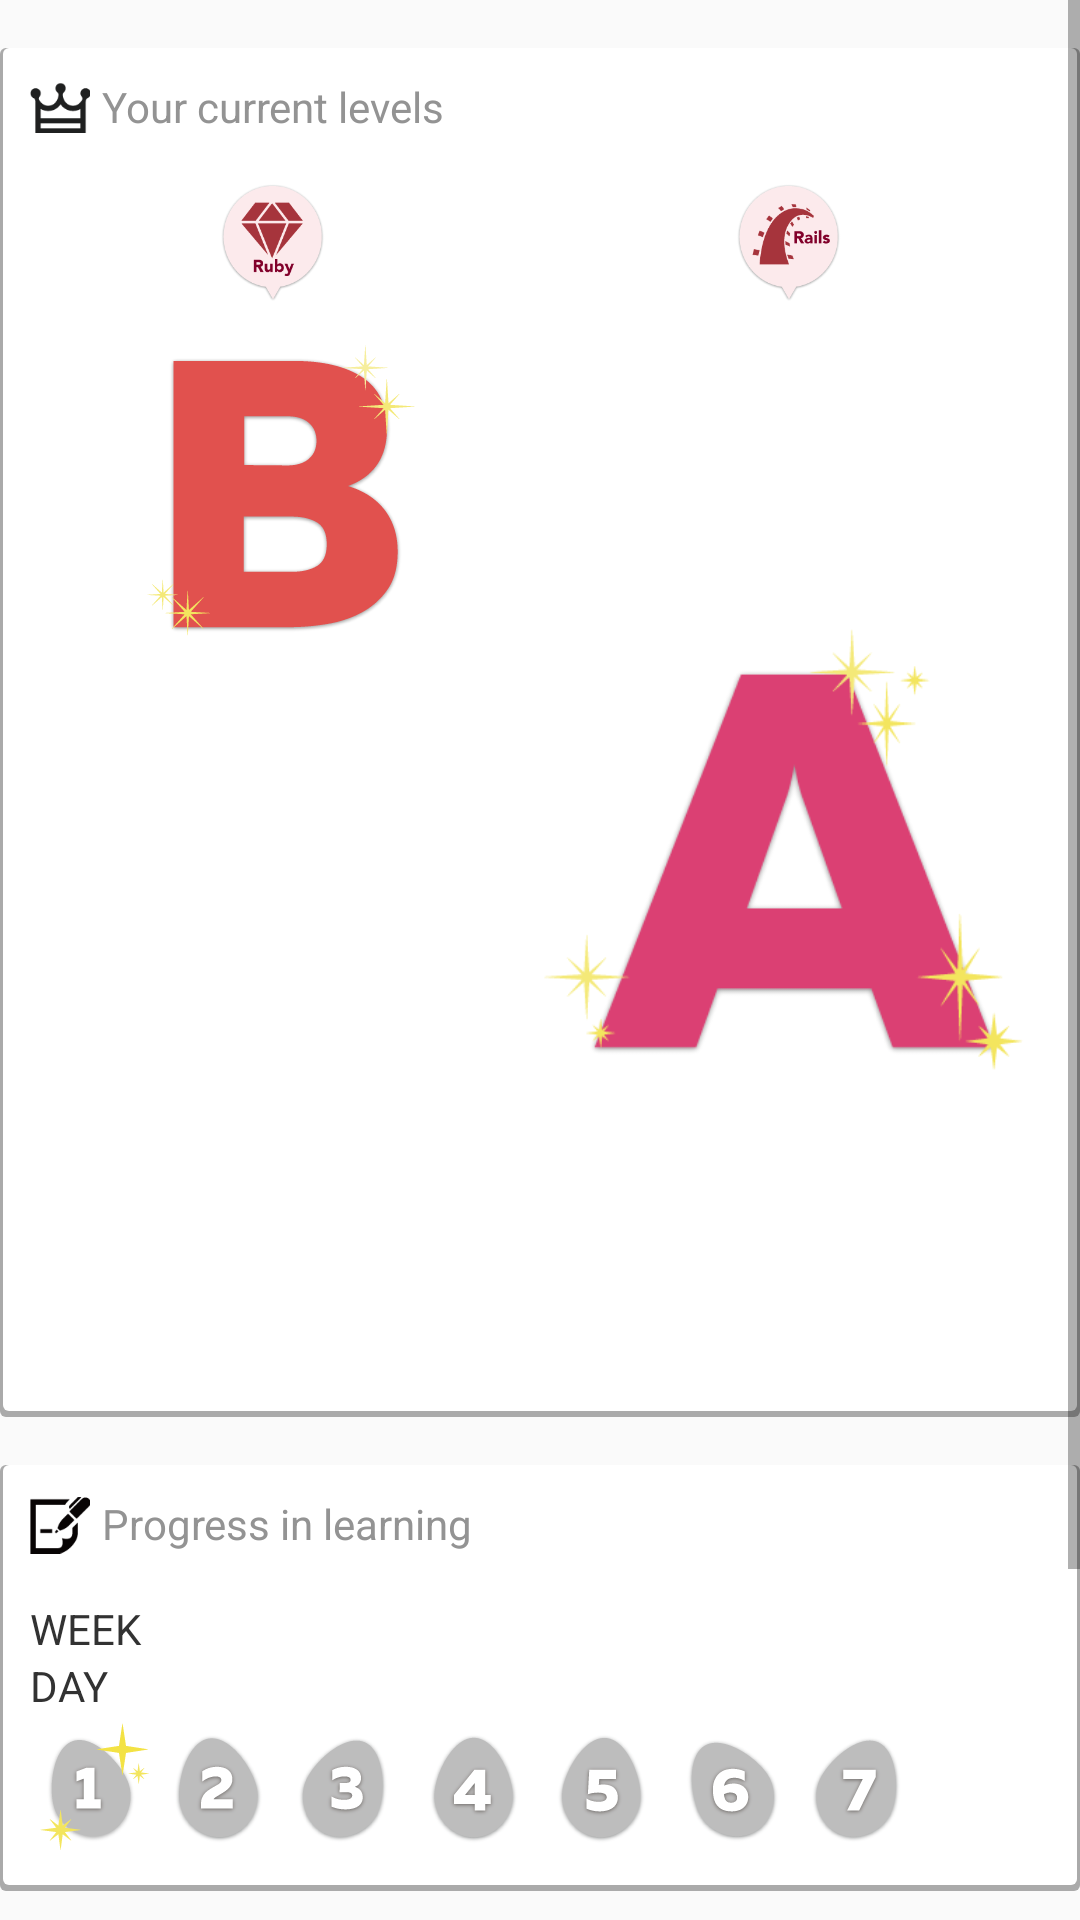

Screen size 1080x1920. Icon name, then its center in pixels as [x,y]:
crawn: [60,108]
pencil: [60,1525]
